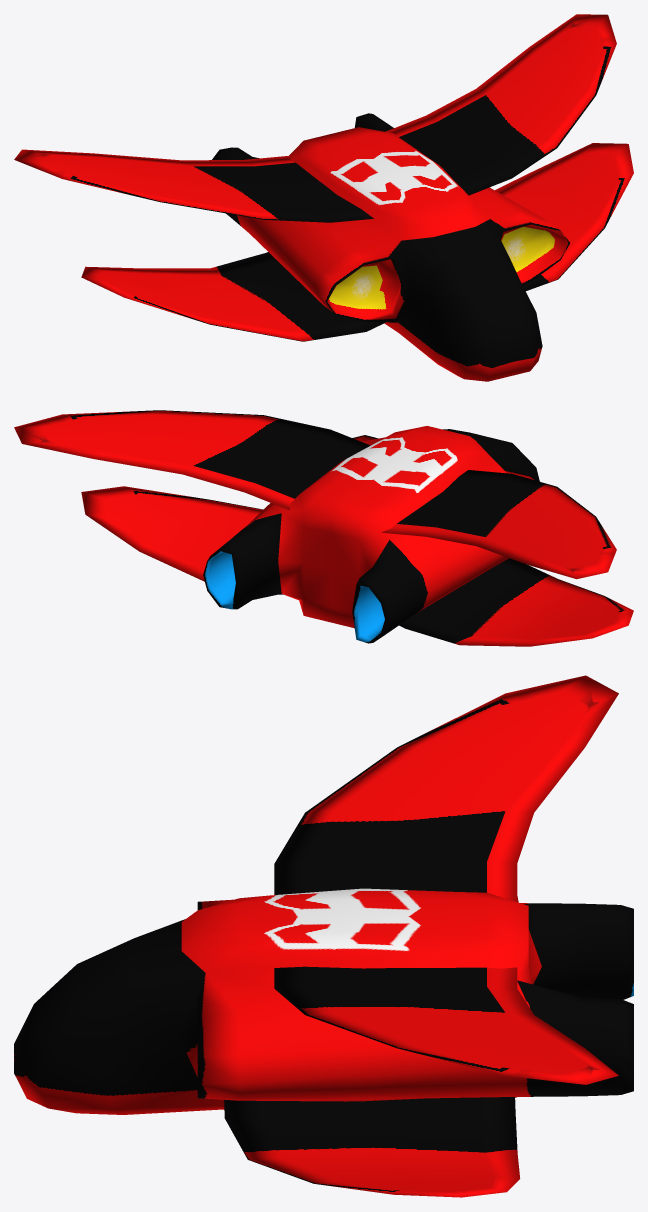
The model's file is Nave_2.FBX.
3 views of the same model, one above another, from view 1: azimuth 30°, elevation 25°; view 2: azimuth 150°, elevation 25°; view 3: azimuth 270°, elevation 25° (orthographic). The views are drawn at different scales.
Parts seen in each view (by area): view 1: G_Nave; view 2: G_Nave; view 3: G_Nave.
Boxes of the visible parts, x1=… form: G_Nave: x1=14, y1=14, x2=633, y2=381; G_Nave: x1=14, y1=410, x2=633, y2=646; G_Nave: x1=14, y1=675, x2=633, y2=1197.
Bounding box in the file's own units: 647 × 159 × 414.
